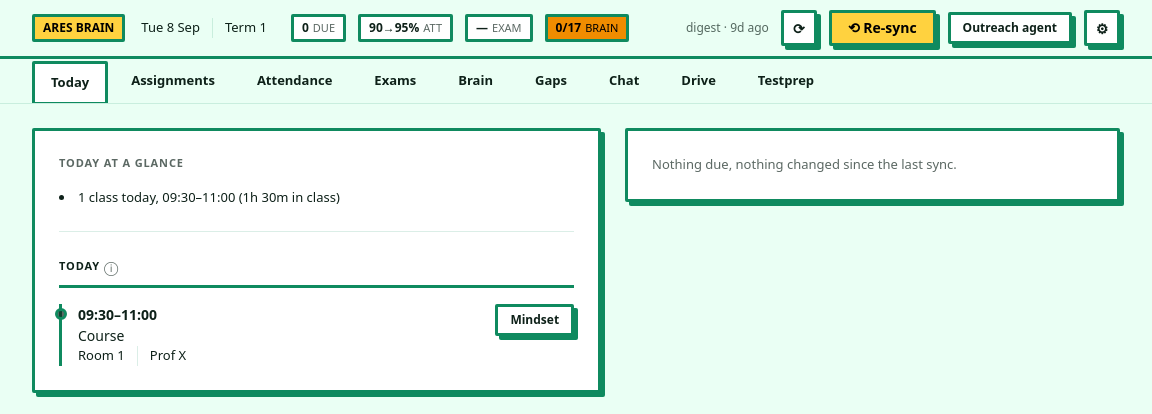
Test: switching the hash renders another tab
Expected: the heading "Today" is shown, [59,258,100,275]
Click the button "Exams": (395, 81) [355,59,435,103]
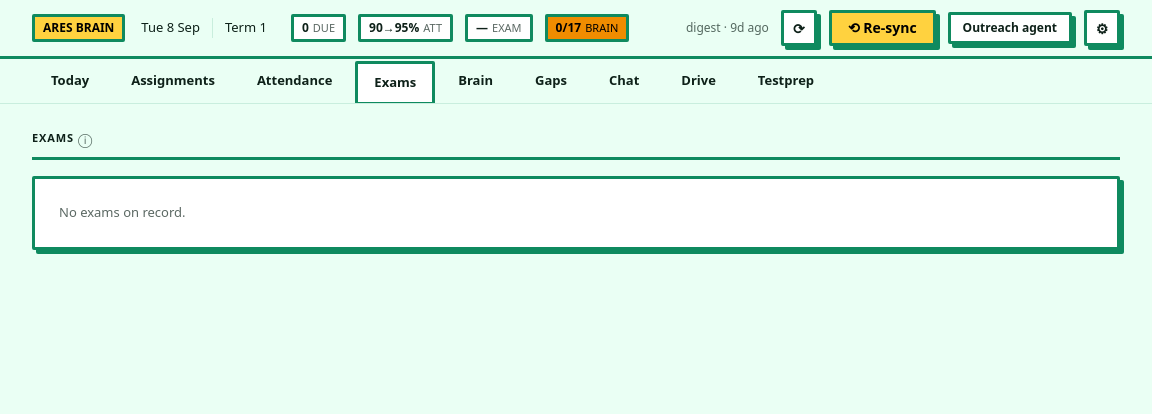
Now the heading "Exams" is shown, box [32,130,74,147]
